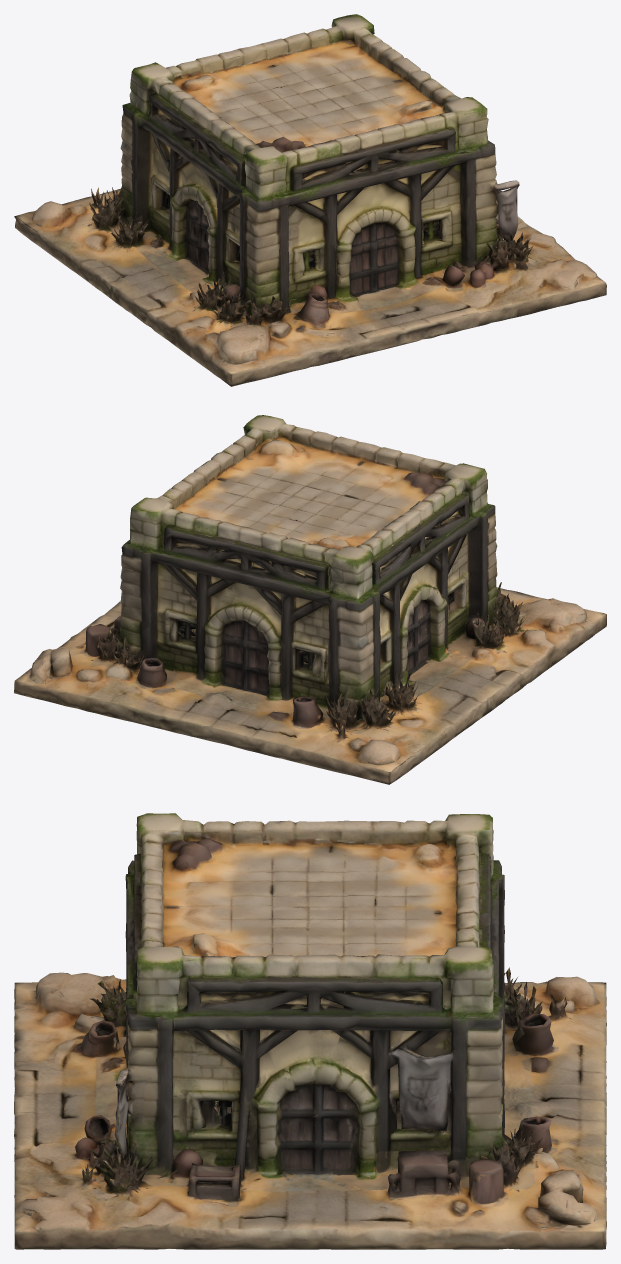
Rendered from desert_barracks_texture.fbx.
3 views of the same model, one above another, from view 1: azimuth 30°, elevation 25°; view 2: azimuth 150°, elevation 25°; view 3: azimuth 270°, elevation 25° (orthographic). The views are drawn at different scales.
Visible parts, largest first — view 1: Mesh_0; view 2: Mesh_0; view 3: Mesh_0.
Boxes of the visible parts, bbox=[...] form: Mesh_0: bbox=[14, 14, 606, 386]; Mesh_0: bbox=[14, 415, 606, 784]; Mesh_0: bbox=[14, 813, 606, 1249].
Size of the model in its own units: 190 by 83.5 by 190.
1 material, 1 textured.
